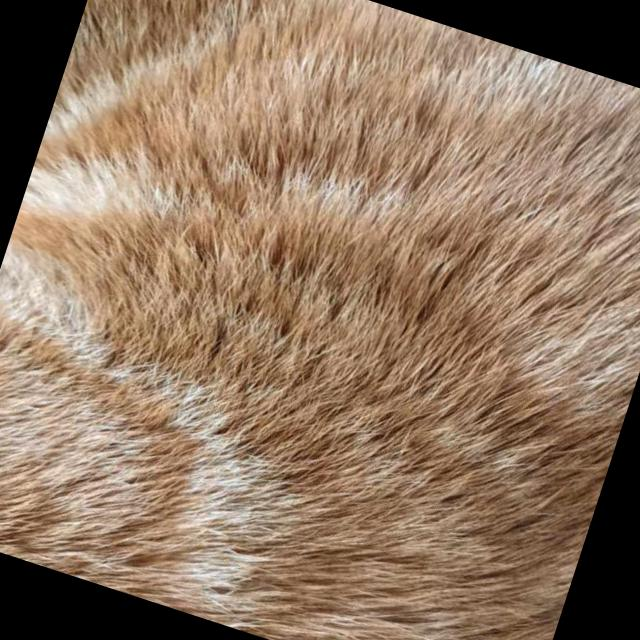Healthy skin: (16, 0, 640, 417), (0, 233, 388, 640), (308, 367, 618, 640)
